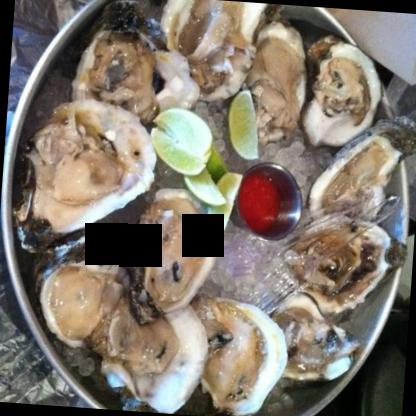oyster: (13, 97, 169, 233), (28, 248, 138, 356), (191, 303, 292, 415), (159, 0, 264, 107), (130, 188, 204, 312), (300, 51, 382, 144)
